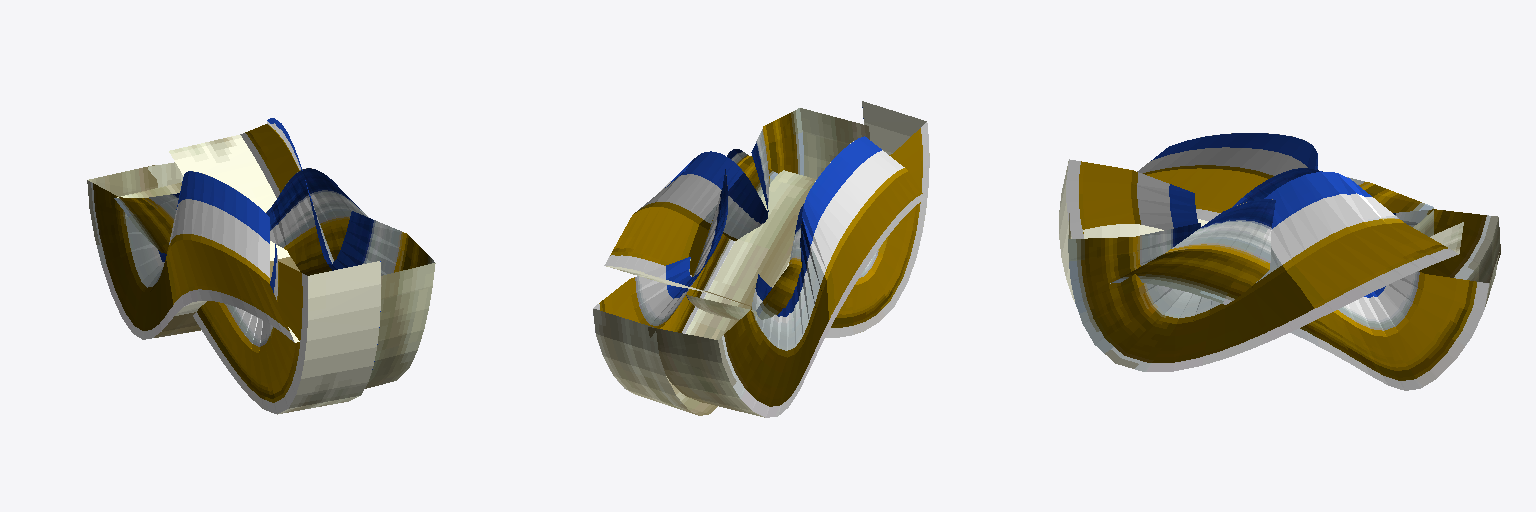
The picture shows the model from 3 angles: view 1: azimuth 30°, elevation 25°; view 2: azimuth 150°, elevation 25°; view 3: azimuth 270°, elevation 25°; orthographic projection.
Parts seen in each view (by area): view 1: polygon3, polygon2, polygon0, polygon1; view 2: polygon3, polygon1, polygon0, polygon2; view 3: polygon0, polygon1, polygon3, polygon2.
Boxes of the visible parts, box(x1,y1,x2,y2) form: polygon3: box(87, 165, 299, 342); polygon2: box(114, 182, 380, 414); polygon0: box(169, 118, 435, 388); polygon1: box(148, 162, 368, 275); polygon3: box(648, 136, 925, 417); polygon1: box(593, 149, 816, 415); polygon0: box(604, 108, 869, 306); polygon2: box(686, 101, 929, 337); polygon0: box(1068, 171, 1463, 371); polygon1: box(1110, 199, 1499, 390); polygon3: box(1083, 133, 1500, 282); polygon2: box(1059, 159, 1433, 301).
Bounding box in the file's own units: 6.83 × 8.97 × 16.81.
Materials: 1 (1 with a texture image).